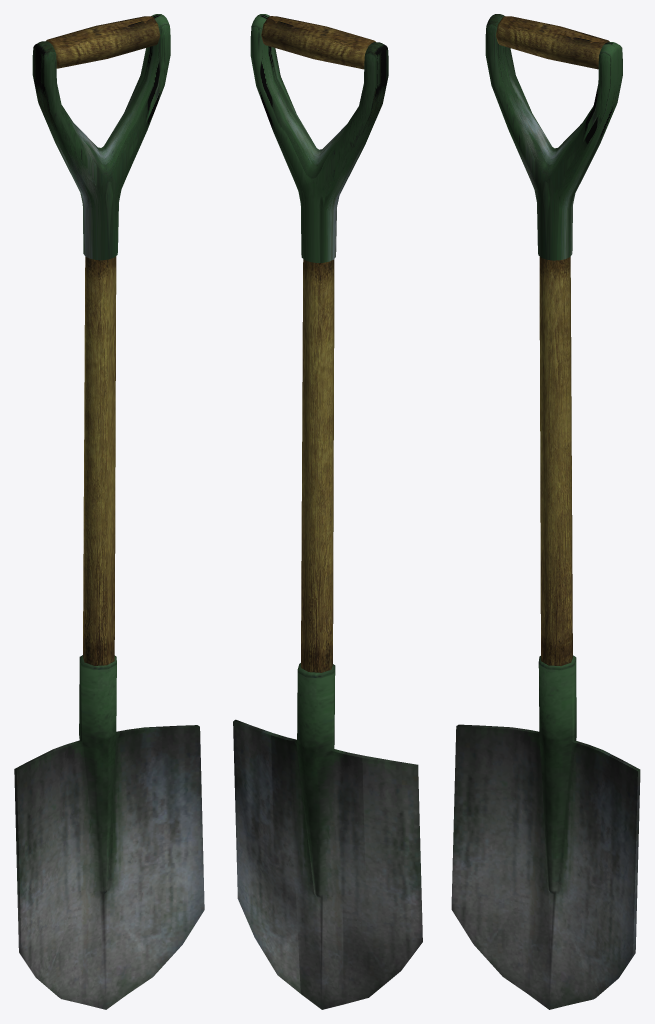
Rendered from shovel.obj.
The picture shows the model from 3 angles, left to right: view 1: azimuth 30°, elevation 25°; view 2: azimuth 150°, elevation 25°; view 3: azimuth 330°, elevation 25°; orthographic projection.
Visible parts, largest first — view 1: 775; view 2: 775; view 3: 775.
Part boxes in pixels (x1,y1,x2,y2): 775: [14, 14, 204, 1009]; 775: [233, 14, 422, 1009]; 775: [451, 14, 640, 1009].
Bounding box in the file's own units: 6.48 × 33.28 × 1.58.
1 material, 1 textured.
